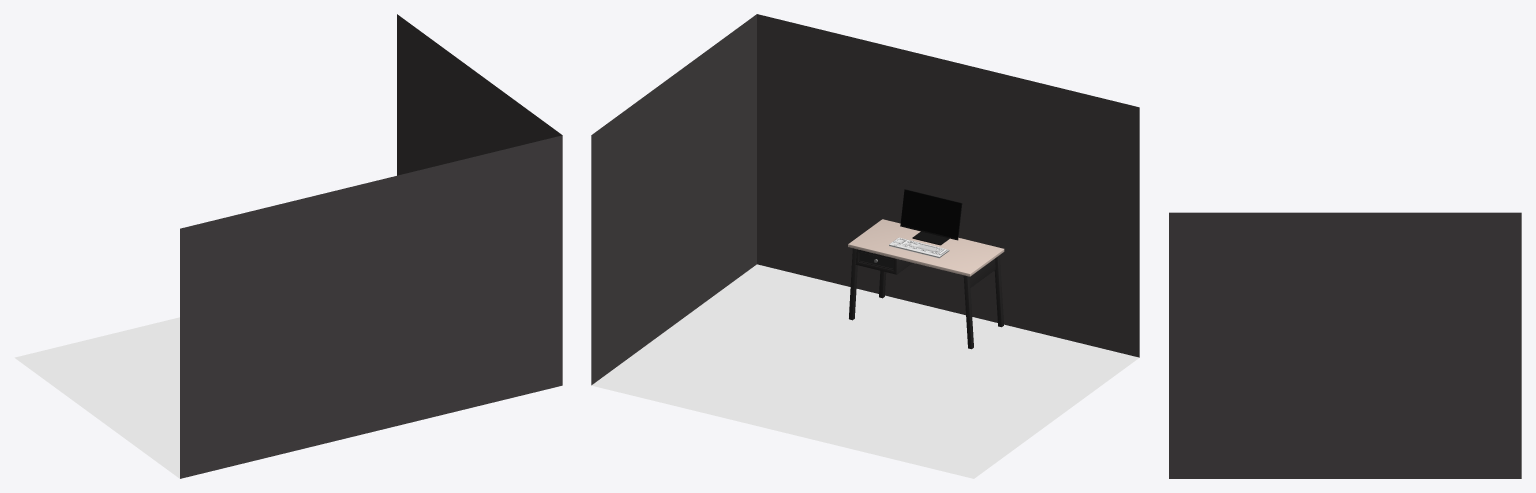
File: rooomtestthing.glb
3 renders of one model, left to right at view 1: azimuth 30°, elevation 25°; view 2: azimuth 150°, elevation 25°; view 3: azimuth 270°, elevation 25°, orthographic. The views are drawn at different scales.
Parts seen in each view (by area): view 1: Walls, Floor; view 2: Walls, Floor, Modern Desk, Screen; view 3: Walls.
Boxes of the visible parts, box(x1,y1,x2,y2) form: Walls: box(180, 14, 562, 478); Floor: box(14, 317, 179, 478); Walls: box(591, 14, 1139, 385); Floor: box(591, 264, 1139, 478); Modern Desk: box(848, 219, 1004, 349); Screen: box(900, 190, 961, 238); Walls: box(1169, 212, 1521, 478).
Bounding box in the file's own units: 4 × 2.67 × 3.01.
Materials: 13 (1 with a texture image).
